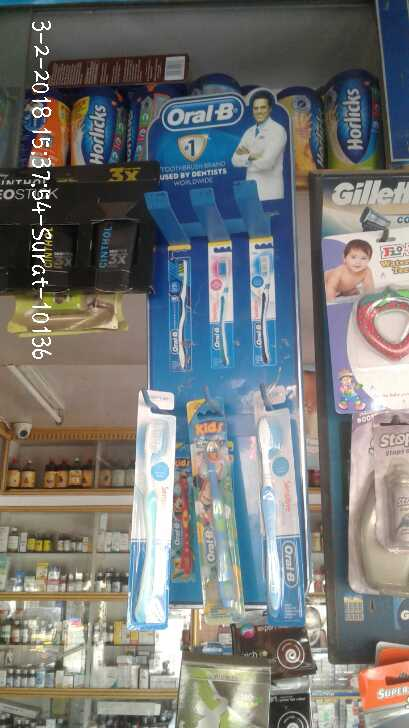oralb: (248, 411, 307, 612), (192, 404, 242, 610), (136, 394, 172, 630), (164, 241, 198, 368), (248, 240, 280, 365), (211, 243, 237, 372)
